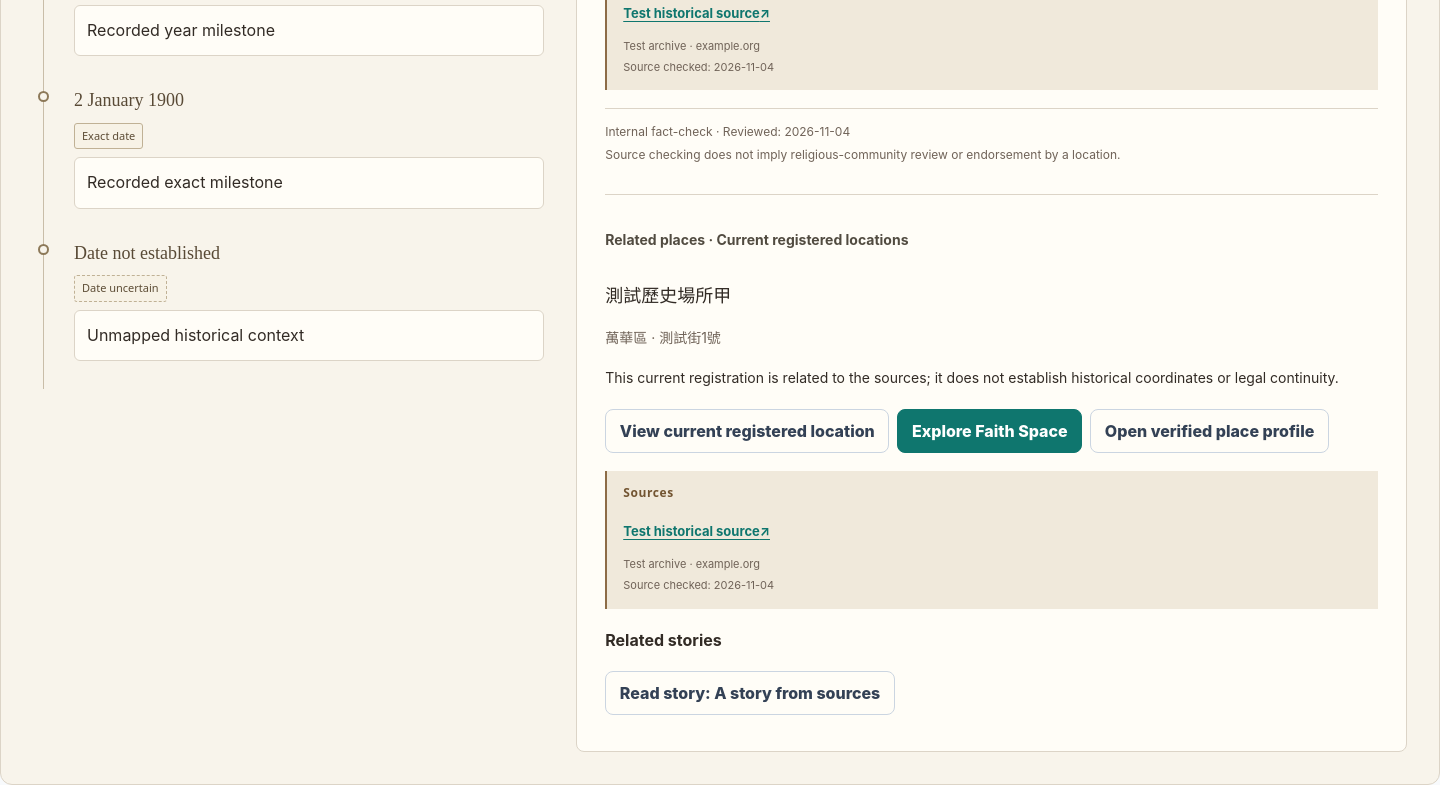
Test case: heritage timeline and stories › uses only matched current places for map, Faith Space and verified profile actions
This screenshot has width=1440, height=785.
(page scrolled)
Click the button "View current registered location" at (747, 431), box [605,409,889,453]
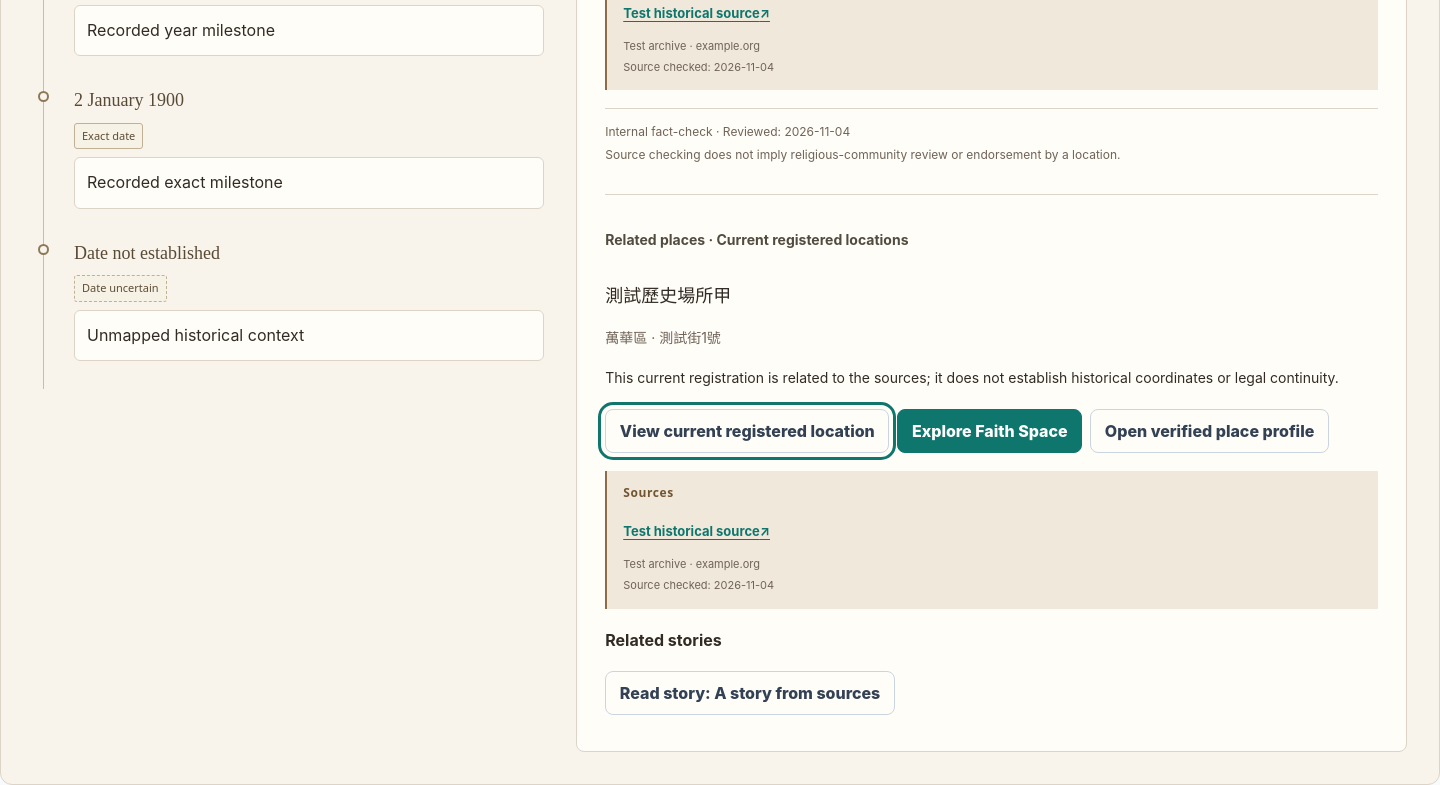
Click the button "Explore Faith Space" at (990, 431), box [897,409,1082,453]
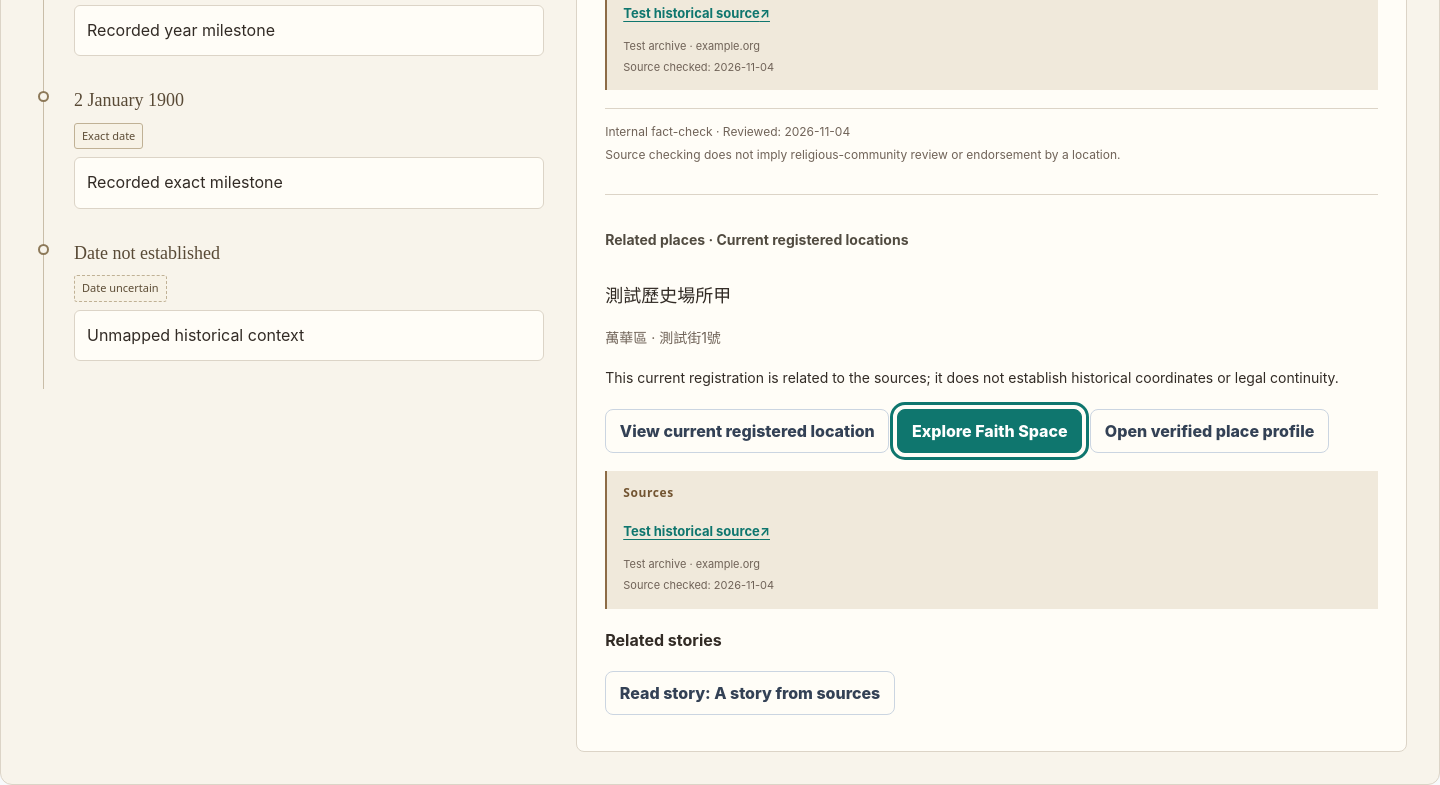
Click the button "Open verified place profile" at (1210, 431), box [1090,409,1329,453]
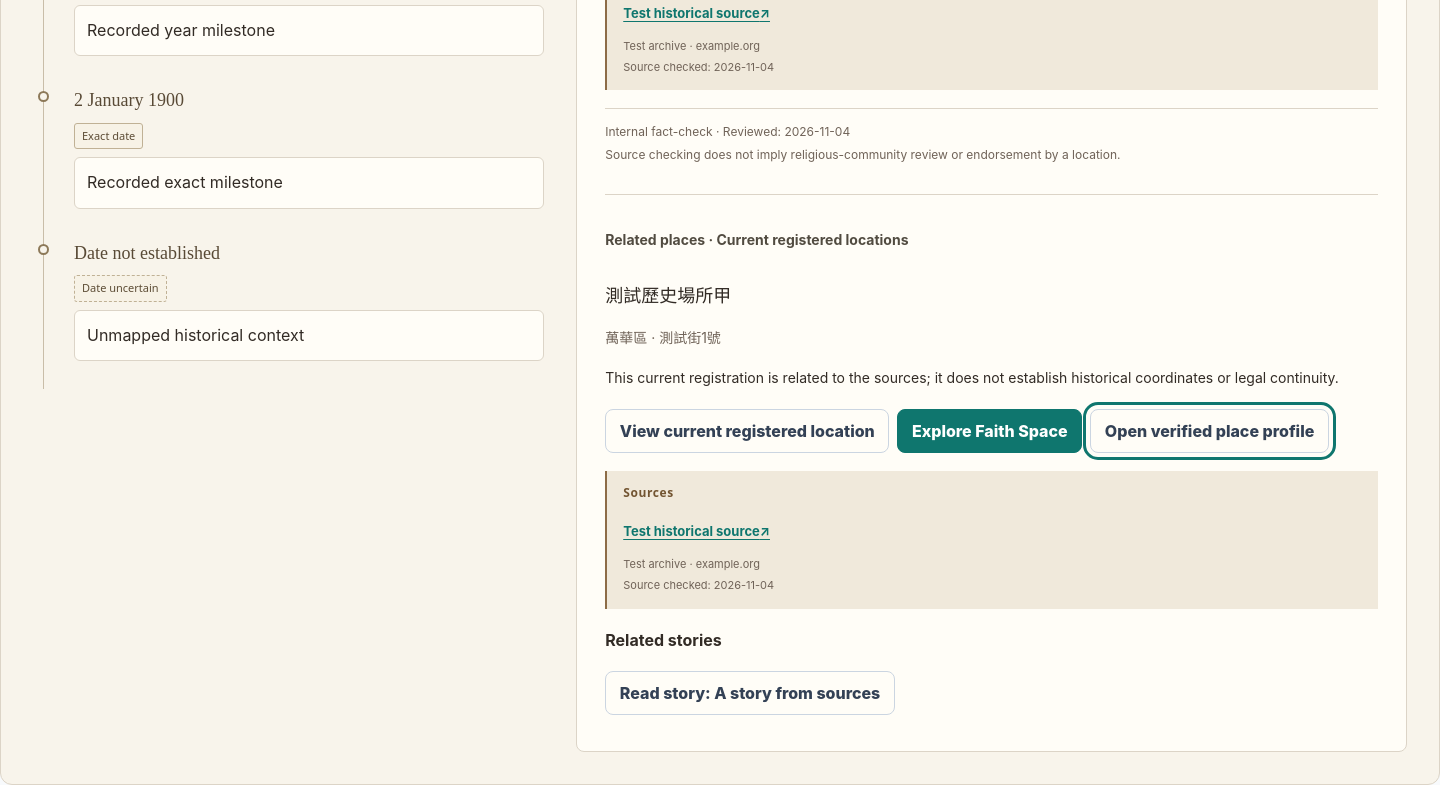
Click the button "Recorded exact milestone" at (185, 182), box [74,157,544,209]
(page scrolled)
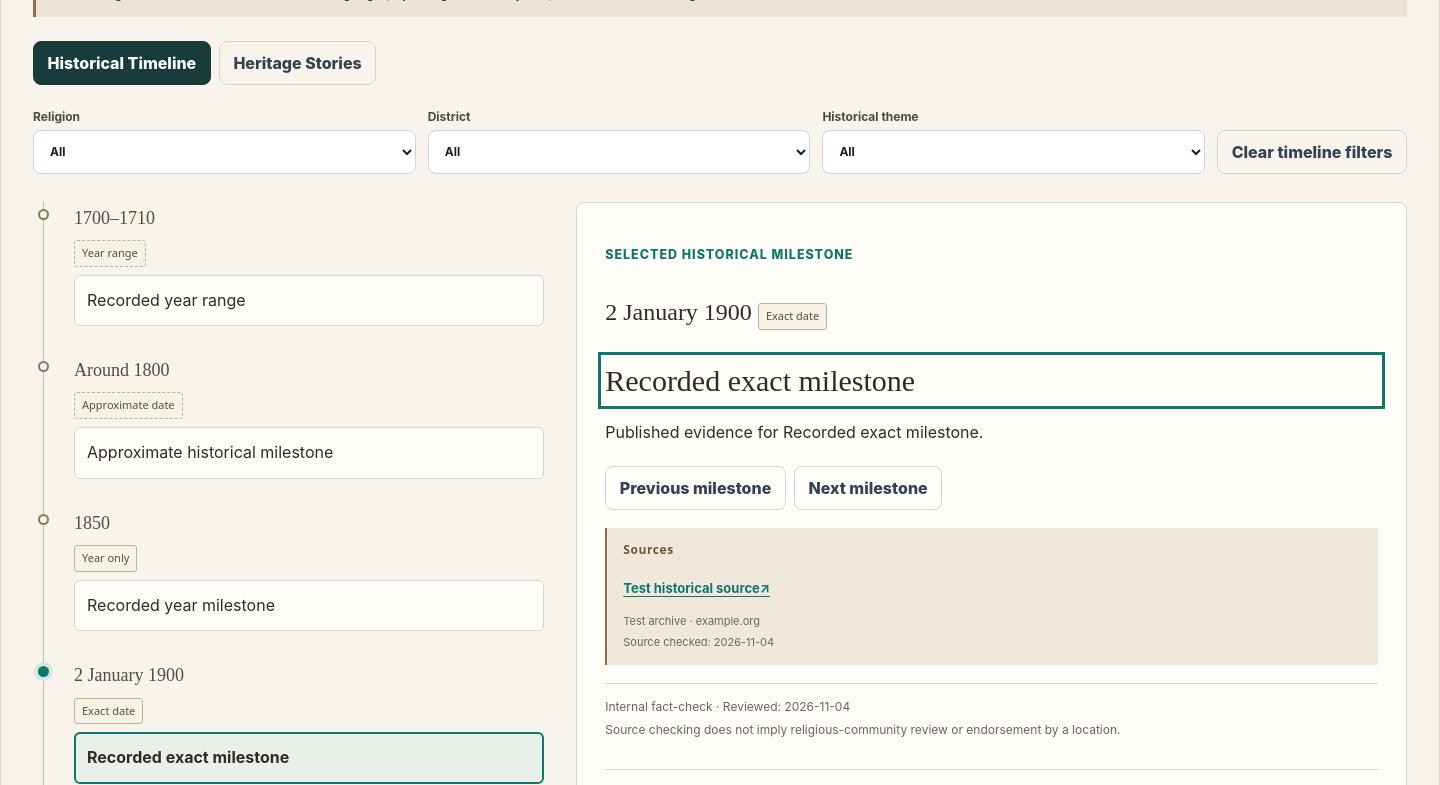
Result: the button "Open verified place profile" is gone
